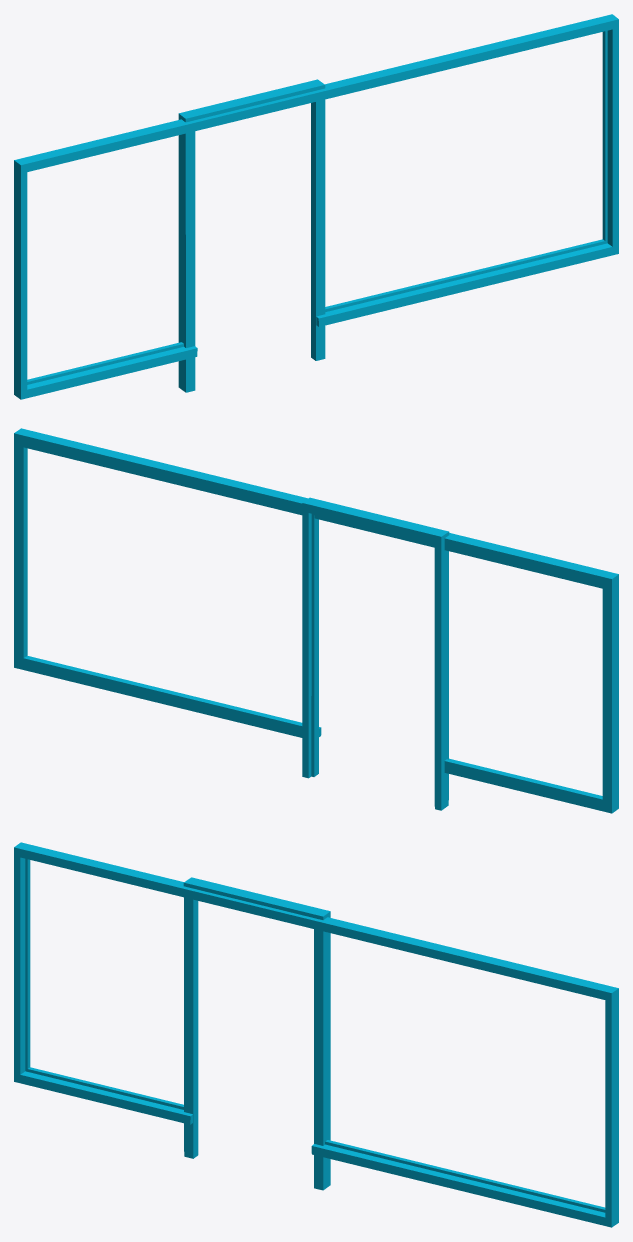
Rendered from Warehouse_02_Door_02B.fbx.
3 renders of one model, top to bottom at view 1: azimuth 30°, elevation 25°; view 2: azimuth 150°, elevation 25°; view 3: azimuth 330°, elevation 25°, orthographic.
Visible parts, largest first — view 1: Warehouse_02_Door_02B; view 2: Warehouse_02_Door_02B; view 3: Warehouse_02_Door_02B.
Part boxes in pixels (<box>): Warehouse_02_Door_02B: <box>14,14,618,399</box>; Warehouse_02_Door_02B: <box>14,428,618,813</box>; Warehouse_02_Door_02B: <box>14,842,618,1227</box>.
Bounding box in the file's own units: 548 × 240 × 15.74.
